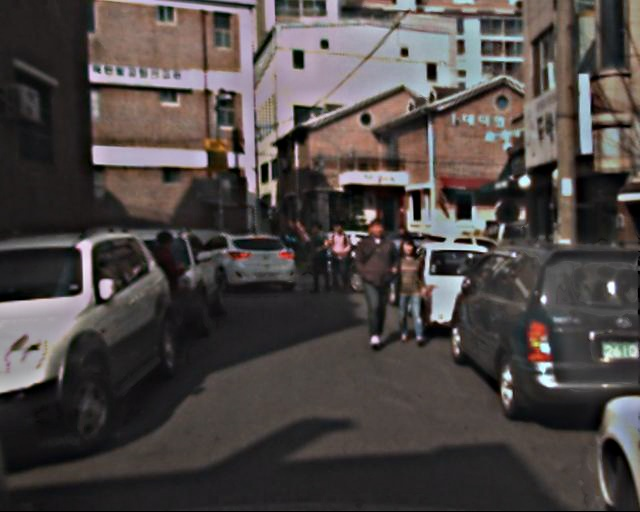person: (351, 222, 403, 350), (145, 231, 192, 345), (389, 240, 432, 346), (307, 223, 335, 292), (327, 222, 354, 288), (286, 217, 314, 264)
